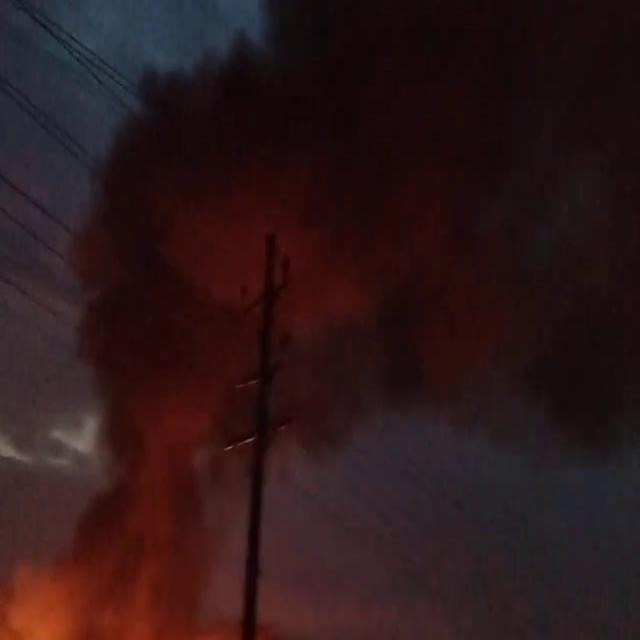Smoke: (2, 1, 636, 612)
